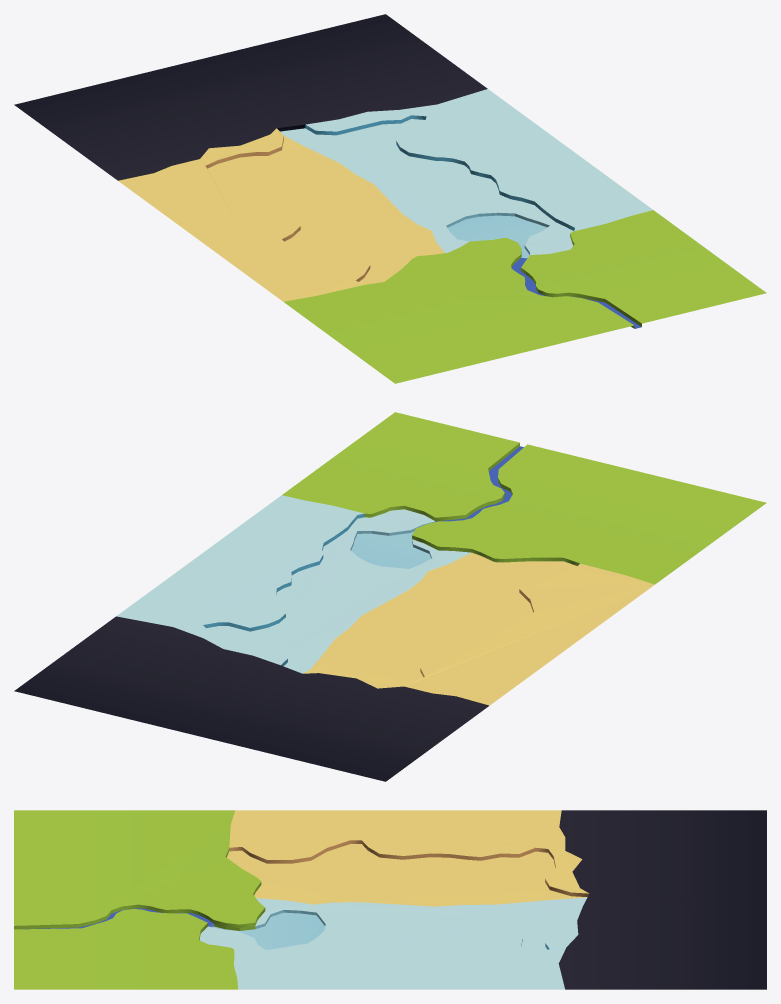
File: SM_TA_TableSurface.fbx
3 views of the same model, one above another, from view 1: azimuth 30°, elevation 25°; view 2: azimuth 150°, elevation 25°; view 3: azimuth 270°, elevation 25° (orthographic).
Visible parts, largest first — view 1: pPlane1; view 2: pPlane1; view 3: pPlane1.
Boxes of the visible parts, x1=… form: pPlane1: x1=14, y1=14, x2=766, y2=383; pPlane1: x1=14, y1=412, x2=766, y2=781; pPlane1: x1=14, y1=810, x2=766, y2=989.
Size of the model in its own units: 1697 by 30.22 by 3014.
